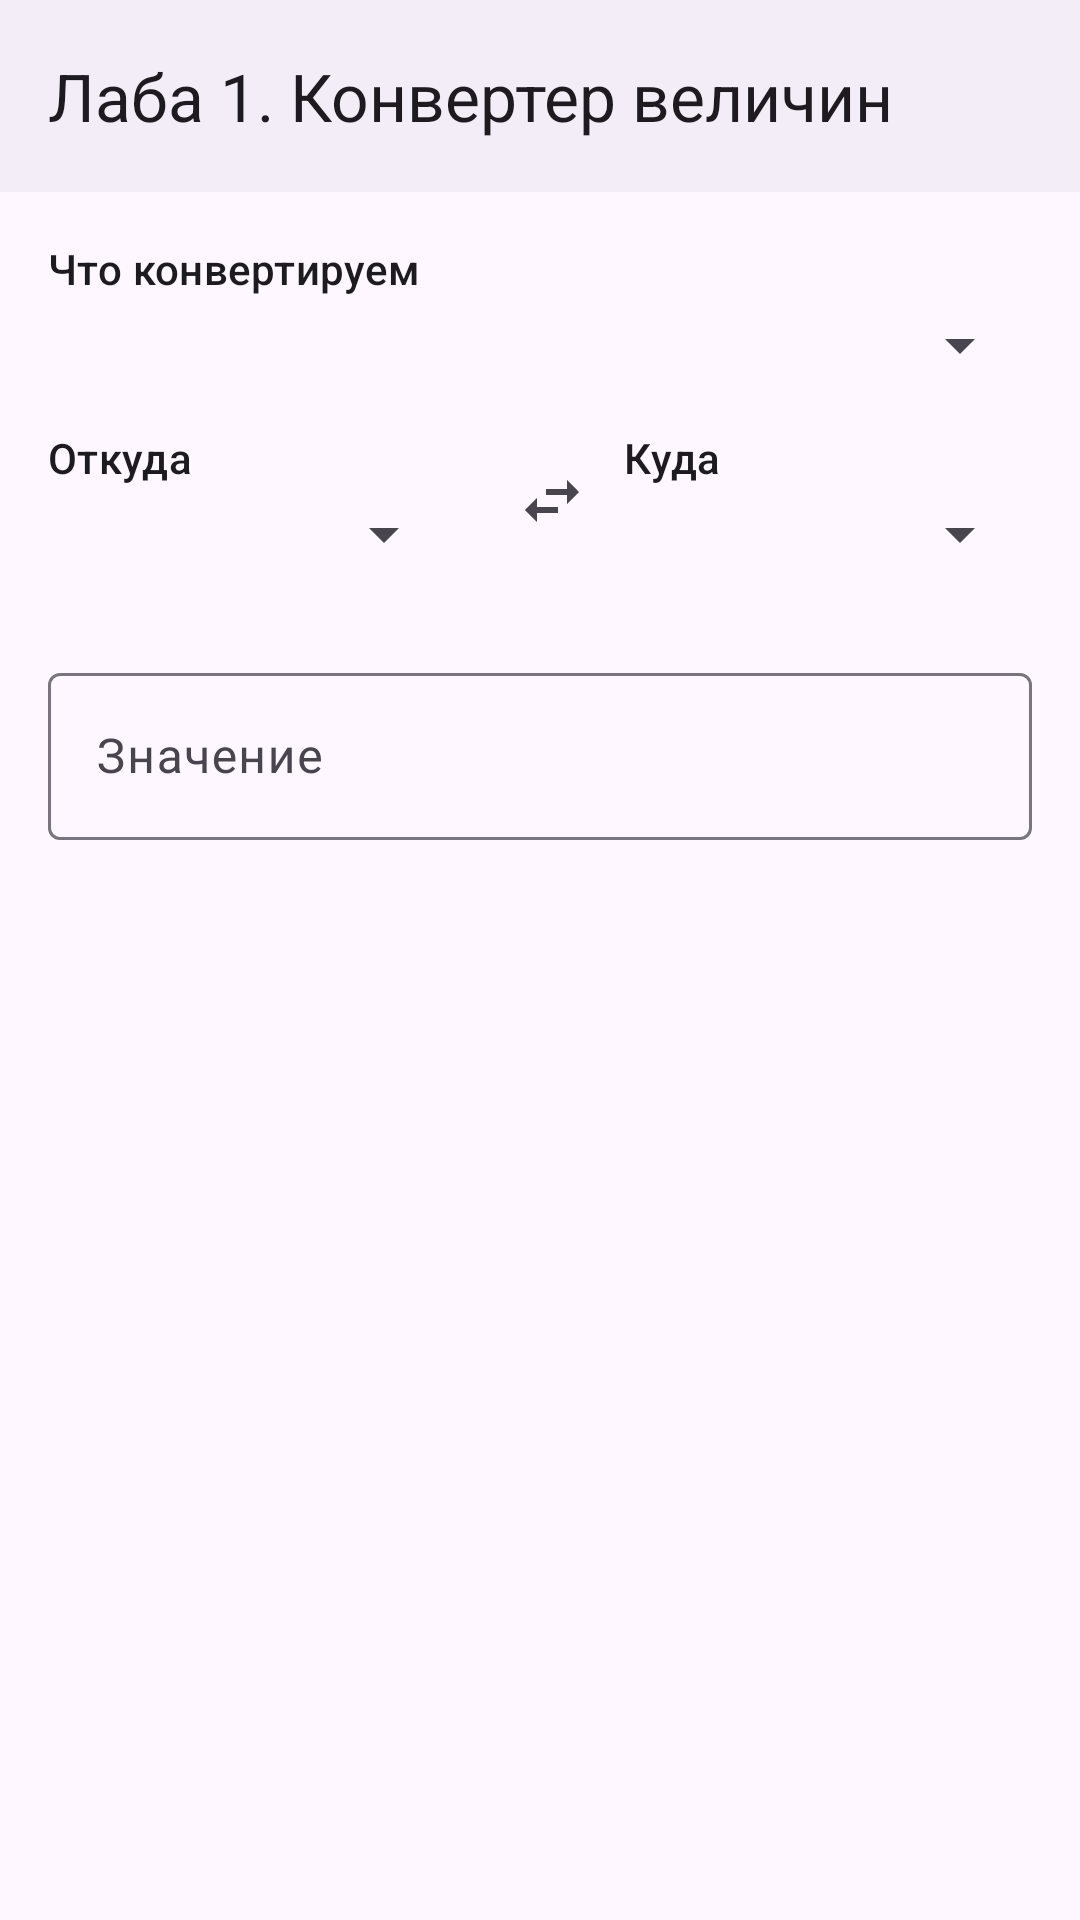

Point at icon controls on the screen. Image size 1080×1920, points as (x=x, y=y).
Поменять местами: (x=552, y=501)
